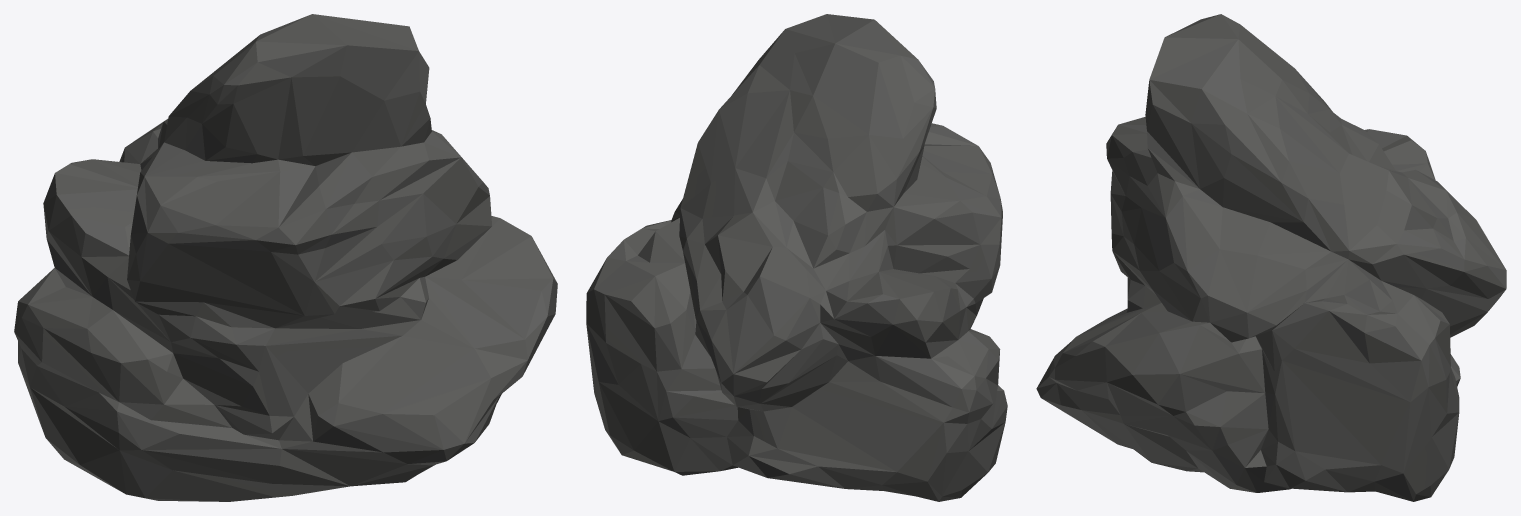
The model's file is worlds_SM_Env_Rock_Large_03.gltf.
The picture shows the model from 3 angles, left to right: view 1: azimuth 30°, elevation 25°; view 2: azimuth 150°, elevation 25°; view 3: azimuth 270°, elevation 25°; orthographic projection. The views are drawn at different scales.
Visible parts, largest first — view 1: SM_Env_Rock_Large_03; view 2: SM_Env_Rock_Large_03; view 3: SM_Env_Rock_Large_03.
Part boxes in pixels (x1,y1,x2,y2): SM_Env_Rock_Large_03: (14,14,557,501); SM_Env_Rock_Large_03: (586,14,1007,501); SM_Env_Rock_Large_03: (1036,14,1506,501).
Size of the model in its own units: 13.67 by 13.78 by 14.48.
1 material, 1 textured.
